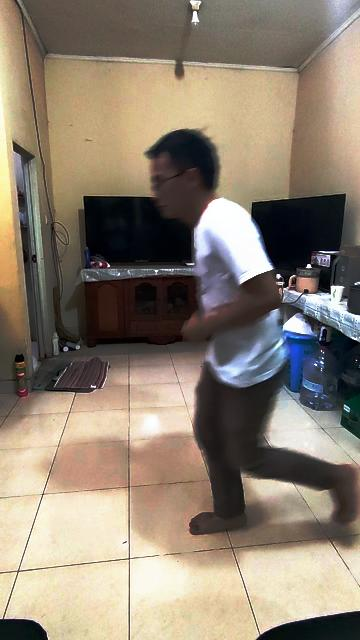berlari: (144, 128, 354, 538)
